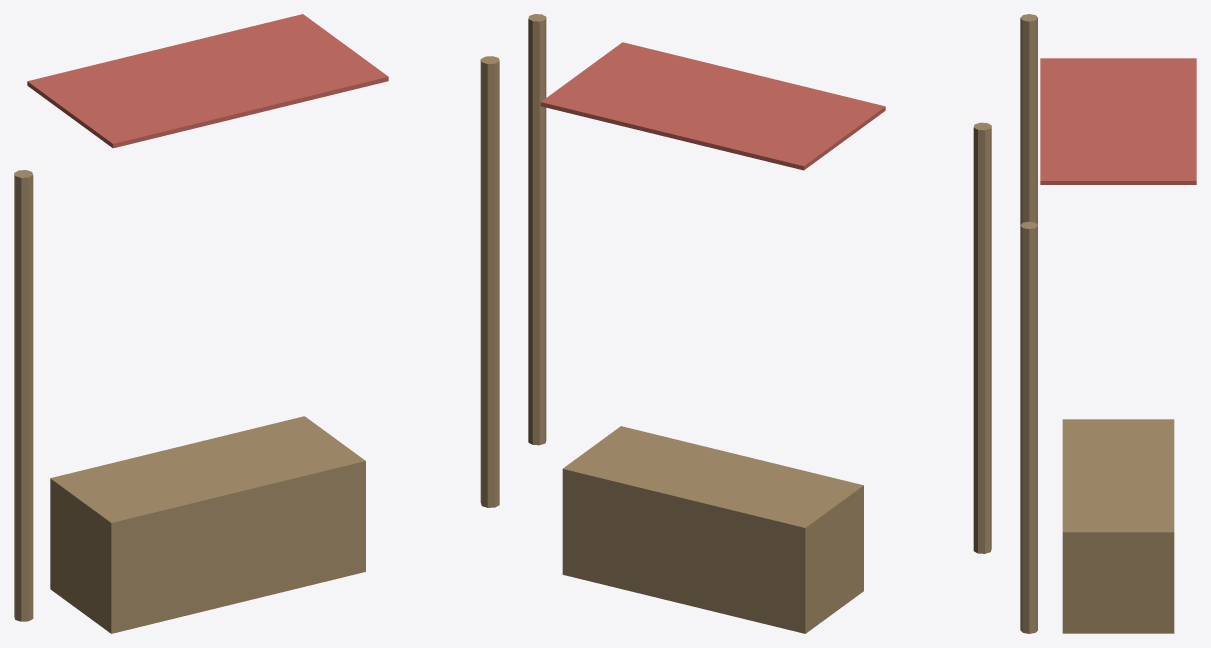
The model's file is market_stall_1.glb.
3 renders of one model, left to right at view 1: azimuth 30°, elevation 25°; view 2: azimuth 150°, elevation 25°; view 3: azimuth 270°, elevation 25°, orthographic. The views are drawn at different scales.
Parts seen in each view (by area): view 1: market_stall_1_counter, market_stall_1_awning, market_stall_1_pole, market_stall_1_pole.001; view 2: market_stall_1_counter, market_stall_1_awning, market_stall_1_pole, market_stall_1_pole.001; view 3: market_stall_1_counter, market_stall_1_awning, market_stall_1_pole.001, market_stall_1_pole.
Part boxes in pixels (<box>): market_stall_1_counter: <box>50,416,365,633</box>; market_stall_1_awning: <box>27,14,388,148</box>; market_stall_1_pole: <box>14,170,33,621</box>; market_stall_1_pole.001: <box>480,56,499,507</box>; market_stall_1_counter: <box>562,426,863,633</box>; market_stall_1_awning: <box>540,42,885,170</box>; market_stall_1_pole: <box>973,122,991,553</box>; market_stall_1_pole.001: <box>528,14,546,445</box>; market_stall_1_counter: <box>1062,419,1174,633</box>; market_stall_1_awning: <box>1040,58,1196,184</box>; market_stall_1_pole.001: <box>1020,221,1037,633</box>; market_stall_1_pole: <box>1020,14,1037,224</box>.
Size of the model in its own units: 2.28 by 2.26 by 0.79.
